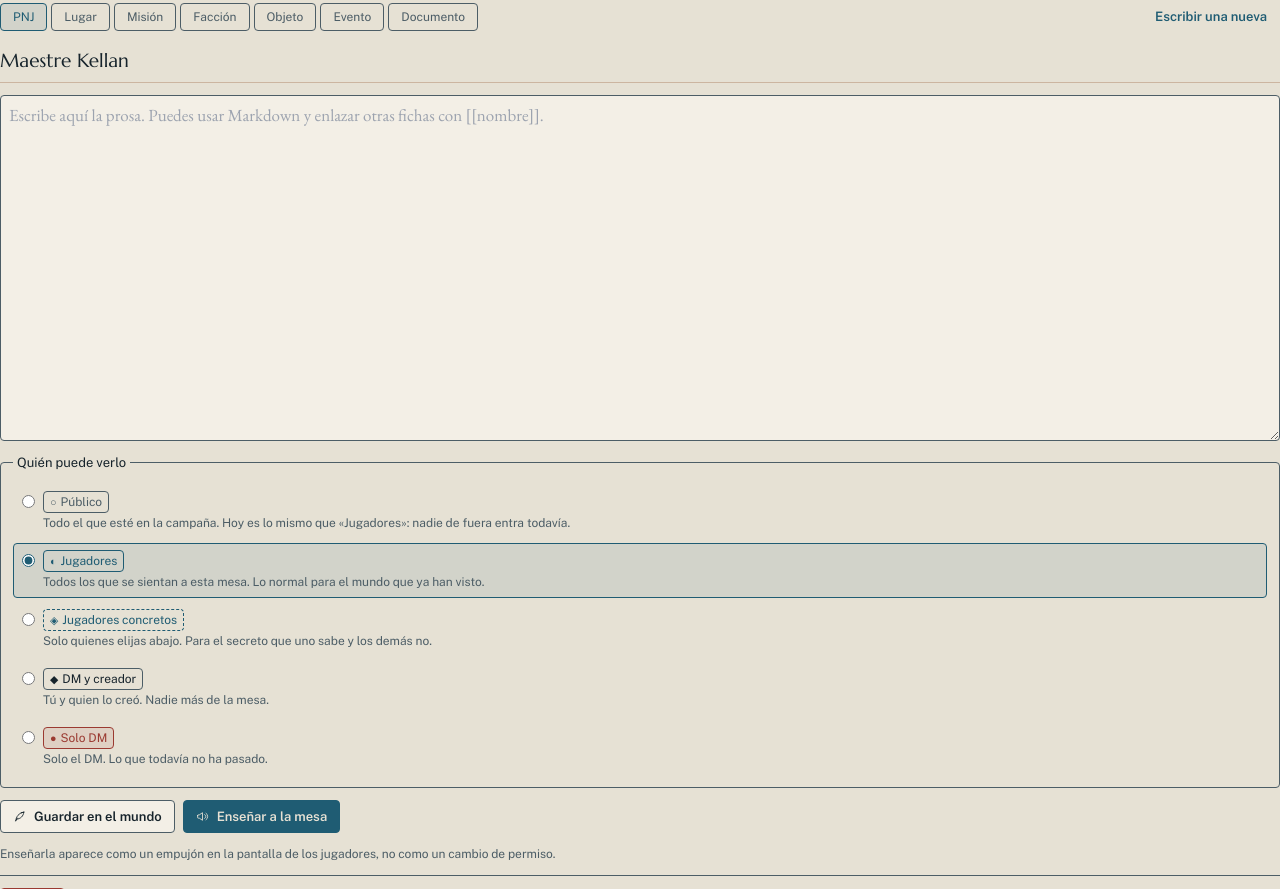
Scenario: reclasificar una ficha (I16) › aceptar sí lo cambia
The width and height of the screenshot is (1280, 889).
Click the button "Documento" at (433, 17), box [388,3,478,31]
(page scrolled)
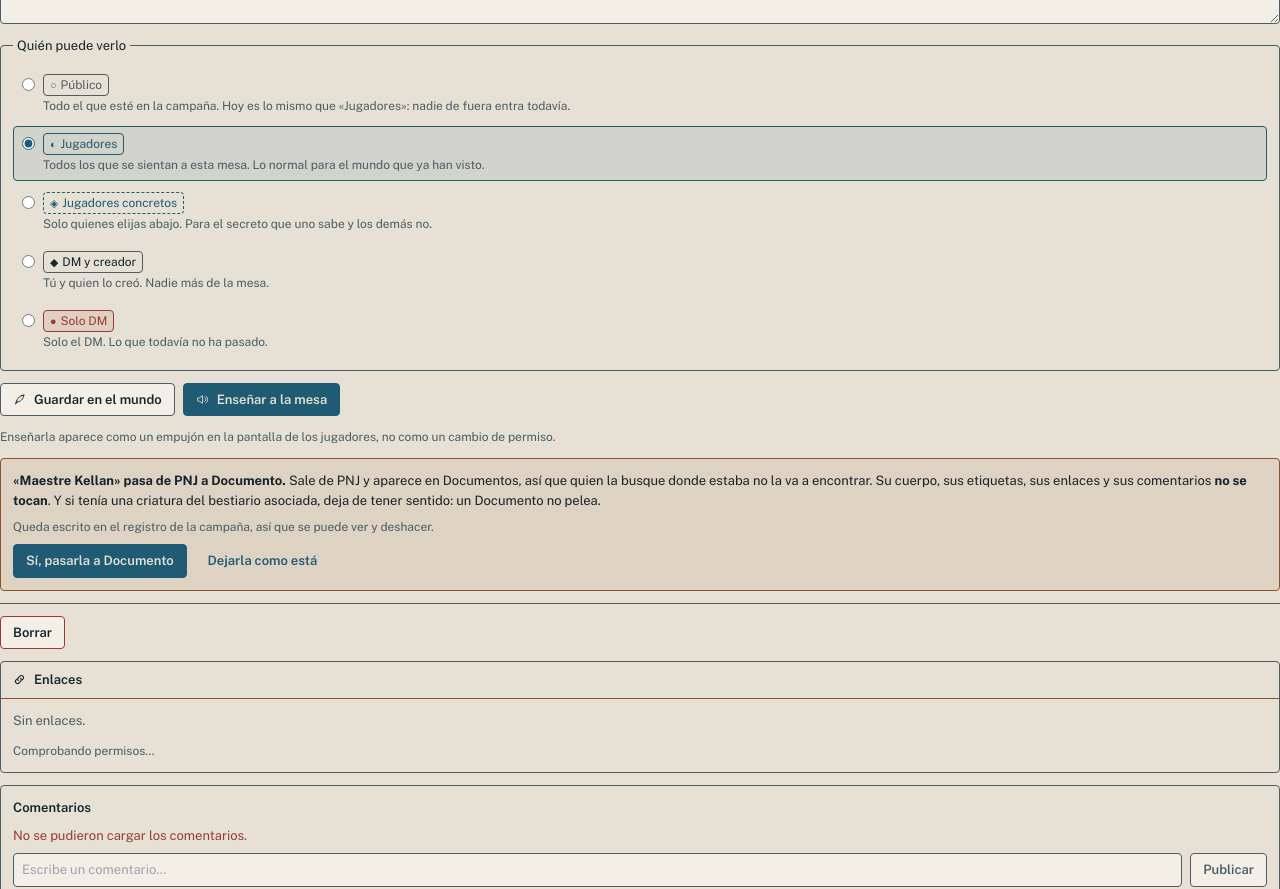
Click the button "Sí, pasarla a Documento" at (100, 561), box [13,544,187,578]
(page scrolled)
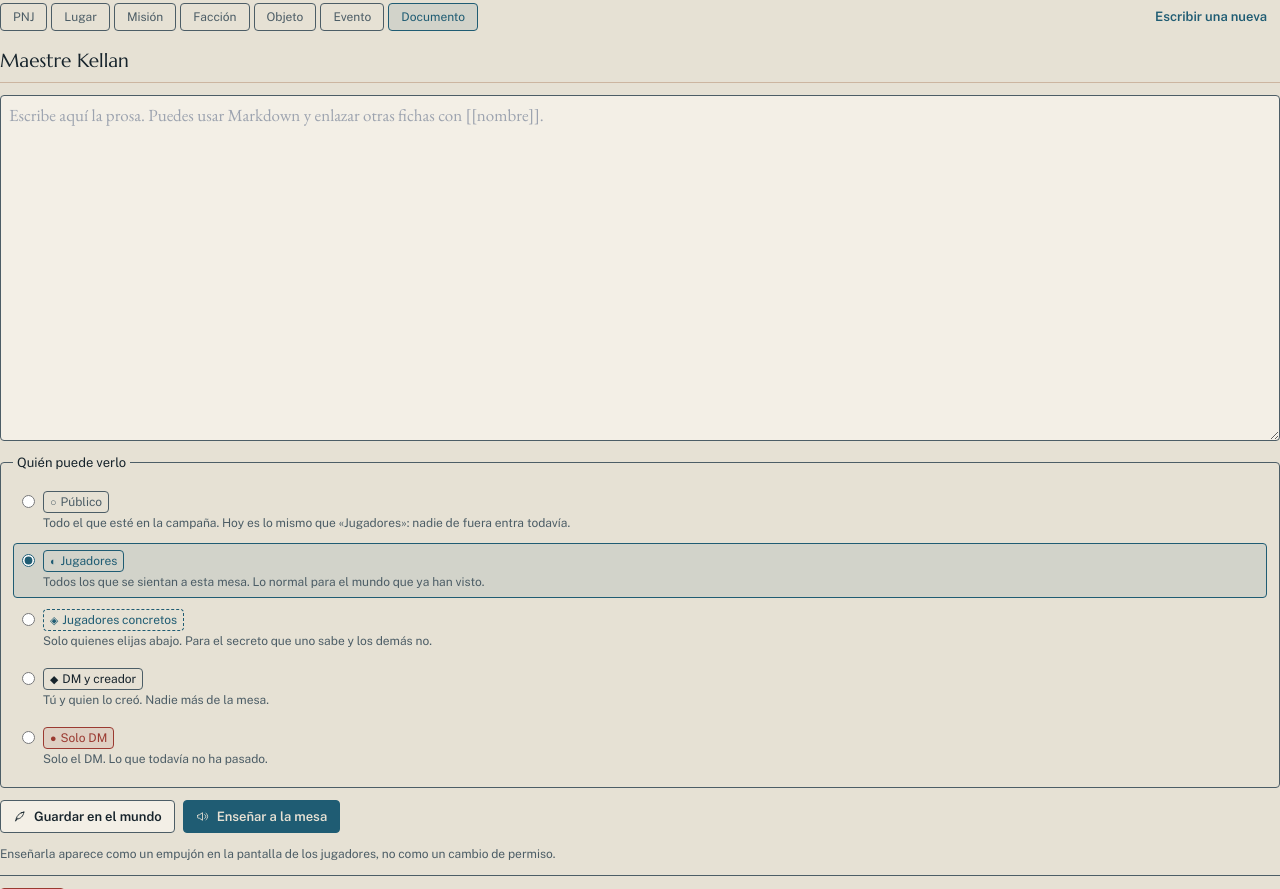
Expected: the dialog is gone
